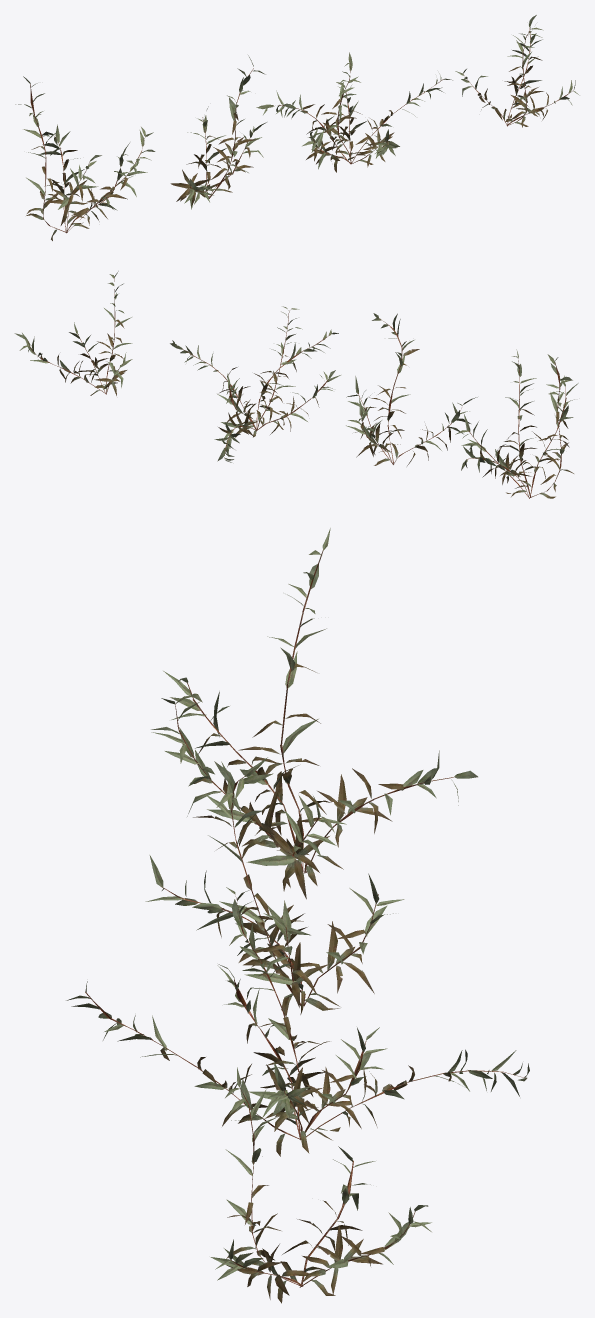
The model's file is shrub_02.glb.
The picture shows the model from 3 angles, top to bottom: view 1: azimuth 30°, elevation 25°; view 2: azimuth 150°, elevation 25°; view 3: azimuth 270°, elevation 25°; orthographic projection. The views are drawn at different scales.
Parts seen in each view (by area): view 1: shrub_02_a, shrub_02_c, shrub_02_b, shrub_02_d; view 2: shrub_02_c, shrub_02_a, shrub_02_b, shrub_02_d; view 3: shrub_02_a, shrub_02_c, shrub_02_b, shrub_02_d.
Part boxes in pixels (x1=…): shrub_02_a: x1=15, y1=76, x2=155, y2=240; shrub_02_c: x1=256, y1=52, x2=452, y2=172; shrub_02_b: x1=170, y1=55, x2=266, y2=209; shrub_02_d: x1=455, y1=15, x2=579, y2=127; shrub_02_c: x1=170, y1=306, x2=340, y2=462; shrub_02_a: x1=455, y1=349, x2=578, y2=498; shrub_02_b: x1=346, y1=313, x2=477, y2=465; shrub_02_d: x1=14, y1=271, x2=132, y2=395; shrub_02_a: x1=151, y1=528, x2=477, y2=899; shrub_02_c: x1=66, y1=887, x2=529, y2=1156; shrub_02_b: x1=145, y1=757, x2=404, y2=1016; shrub_02_d: x1=210, y1=1067, x2=431, y2=1303.
Size of the model in its own units: 6.03 by 1.69 by 2.28.
Materials: 1 (1 with a texture image).
